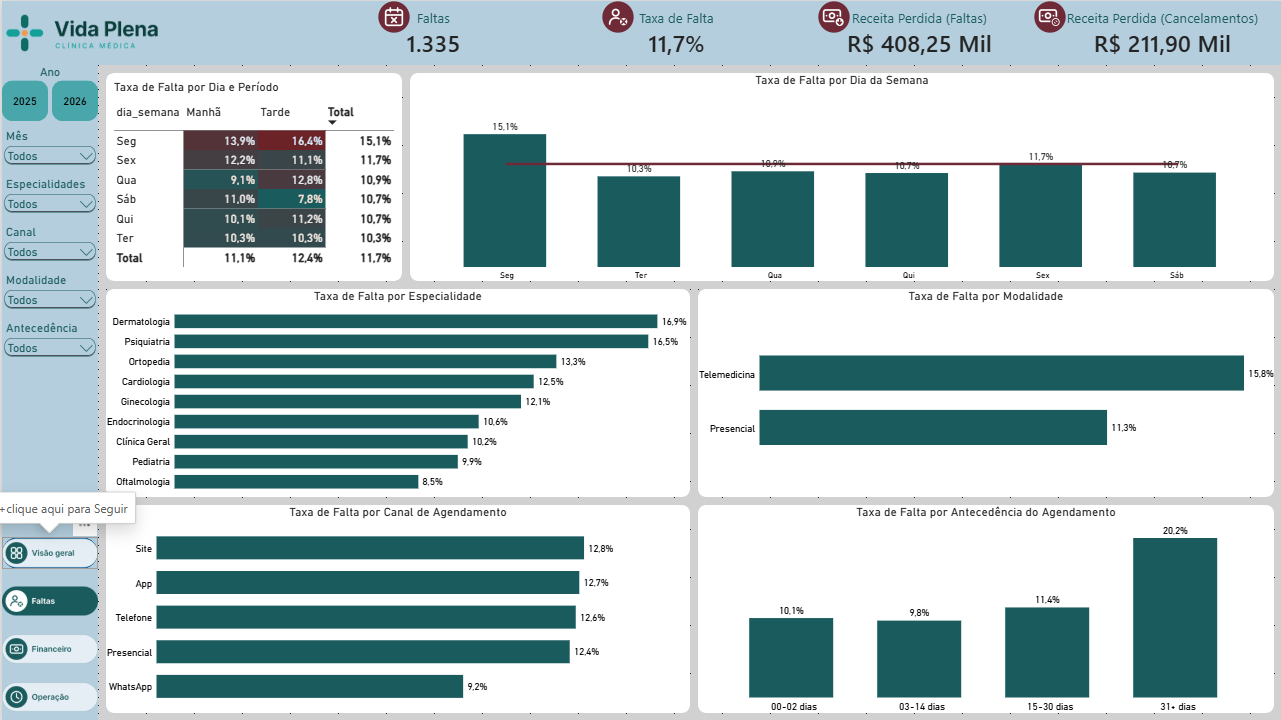

The dashboard page shown, as its layout file describes it:
{"tool":"powerbi","page":{"name":"Faltas","canvas":[2560,1440],"ordinal":1},"visuals":[{"type":"shape","box":[1392,1008,1152,416],"z":0},{"type":"shape","box":[1392,576,1152,416],"z":1000},{"type":"shape","box":[816,144,1728,416],"z":2000},{"type":"shape","box":[0,-176,192,1616],"z":3000},{"type":"shape","box":[208,144,592,416],"z":4000},{"type":"shape","box":[0,0,2560,128],"z":5000},{"type":"shape","box":[208,576,1168,416],"z":6000},{"type":"image","box":[0,0,320,128],"z":7000},{"type":"cardVisual","fields":{"Data":["Medidas.Faltas","Medidas.Taxa de Falta","Medidas.Receita Perdida (Faltas)","Medidas.Receita Perdida (Cancelamentos)"]},"box":[624,16,1936,96],"z":8000},{"type":"shape","box":[208,1008,1168,416],"z":9000},{"type":"barChart","title":"Taxa de Falta por Canal de Agendamento","fields":{"Category":["fato_atendimentos.canal_agendamento"],"Y":["Medidas.Taxa de Falta"]},"box":[208,1008,1168,416],"z":10000},{"type":"lineStackedColumnComboChart","title":"Taxa de Falta por Dia da Semana","fields":{"Category":["dim_calendario.dia_semana"],"Y":["Medidas.Taxa de Falta"],"Y2":["Medidas.Taxa de Falta (Referência)"]},"box":[816,144,1728,416],"z":11000},{"type":"slicer","fields":{"Values":["dim_medicos.especialidade"]},"box":[0,352,192,96],"z":12000},{"type":"slicer","fields":{"Values":["fato_atendimentos.canal_agendamento"]},"box":[0,448,192,96],"z":13000},{"type":"slicer","fields":{"Values":["fato_atendimentos.modalidade"]},"box":[0,544,192,96],"z":14000},{"type":"advancedSlicerVisual","title":"Ano","fields":{"Values":["dim_calendario.ano"]},"box":[0,128,192,112],"z":15000},{"type":"slicer","fields":{"Values":["dim_calendario.mes_nome"]},"box":[0,256,192,96],"z":16000},{"type":"actionButton","box":[0,1072,192,64],"z":17000},{"type":"actionButton","box":[0,1168,192,64],"z":18000},{"type":"actionButton","box":[0,1264,192,64],"z":19000},{"type":"actionButton","box":[0,1360,192,64],"z":20000},{"type":"image","box":[736,0,96,64],"z":21000},{"type":"image","box":[2048,0,96,64],"z":22000},{"type":"image","box":[1616,0,96,64],"z":23000},{"type":"image","box":[1184,0,96,64],"z":24000},{"type":"columnChart","title":"Taxa de Falta por Antecedência do Agendamento","fields":{"Category":["fato_atendimentos.faixa_antecedencia"],"Y":["Medidas.Taxa de Falta"]},"box":[1392,1008,1152,416],"z":25000},{"type":"barChart","title":"Taxa de Falta por Especialidade","fields":{"Category":["dim_medicos.especialidade"],"Y":["Medidas.Taxa de Falta"]},"box":[208,576,1168,416],"z":26000},{"type":"barChart","title":"Taxa de Falta por Modalidade","fields":{"Category":["fato_atendimentos.modalidade"],"Y":["Medidas.Taxa de Falta"]},"box":[1392,576,1152,416],"z":27000},{"type":"pivotTable","title":"Taxa de Falta por Dia e Período","fields":{"Columns":["fato_atendimentos.periodo_dia"],"Rows":["dim_calendario.dia_semana"],"Values":["Medidas.Taxa de Falta"]},"box":[208,144,592,416],"z":27001},{"type":"slicer","fields":{"Values":["fato_atendimentos.faixa_antecedencia"]},"box":[0,640,192,96],"z":27002}]}

Visuals, with their boxes on the page's 2560x1440 design canvas (x1, y1, x2, y2). These are canvas units, not pixel positions in the 1281x720 screenshot, which may show the page scaled, cropped or inside an application window:
shape: box=[1392, 1008, 2544, 1424]
shape: box=[1392, 576, 2544, 992]
shape: box=[816, 144, 2544, 560]
shape: box=[0, -176, 192, 1440]
shape: box=[208, 144, 800, 560]
shape: box=[0, 0, 2560, 128]
shape: box=[208, 576, 1376, 992]
image: box=[0, 0, 320, 128]
cardVisual - Medidas.Faltas x Medidas.Taxa de Falta: box=[624, 16, 2560, 112]
shape: box=[208, 1008, 1376, 1424]
"Taxa de Falta por Canal de Agendamento" barChart: box=[208, 1008, 1376, 1424]
"Taxa de Falta por Dia da Semana" lineStackedColumnComboChart: box=[816, 144, 2544, 560]
slicer - dim_medicos.especialidade: box=[0, 352, 192, 448]
slicer - fato_atendimentos.canal_agendamento: box=[0, 448, 192, 544]
slicer - fato_atendimentos.modalidade: box=[0, 544, 192, 640]
"Ano" advancedSlicerVisual: box=[0, 128, 192, 240]
slicer - dim_calendario.mes_nome: box=[0, 256, 192, 352]
actionButton: box=[0, 1072, 192, 1136]
actionButton: box=[0, 1168, 192, 1232]
actionButton: box=[0, 1264, 192, 1328]
actionButton: box=[0, 1360, 192, 1424]
image: box=[736, 0, 832, 64]
image: box=[2048, 0, 2144, 64]
image: box=[1616, 0, 1712, 64]
image: box=[1184, 0, 1280, 64]
"Taxa de Falta por Antecedência do Agendamento" columnChart: box=[1392, 1008, 2544, 1424]
"Taxa de Falta por Especialidade" barChart: box=[208, 576, 1376, 992]
"Taxa de Falta por Modalidade" barChart: box=[1392, 576, 2544, 992]
"Taxa de Falta por Dia e Período" pivotTable: box=[208, 144, 800, 560]
slicer - fato_atendimentos.faixa_antecedencia: box=[0, 640, 192, 736]
